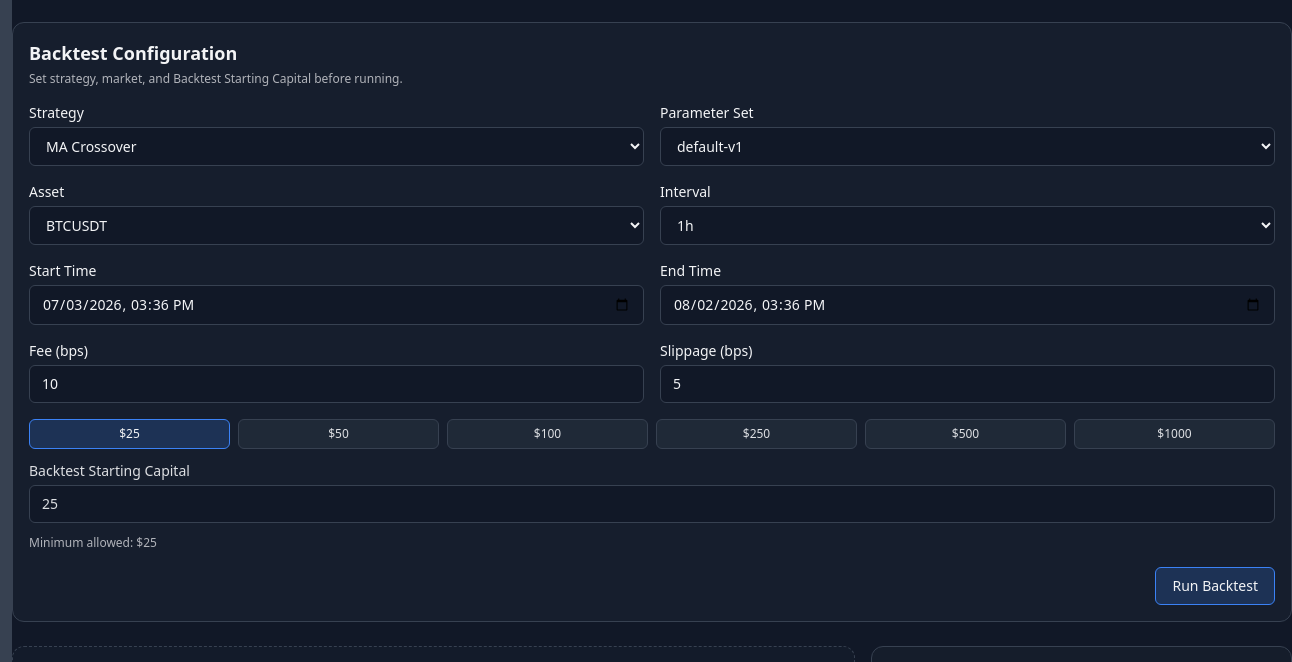
Test: BacktestsPage › shows running state after a successful run request
The width and height of the screenshot is (1292, 662).
Expected: the heading "Backtest Configuration" is shown, [29,41,237,65]
Click the button "Run Backtest".
click(1215, 586)  # box [1156,567,1275,605]
(page scrolled)
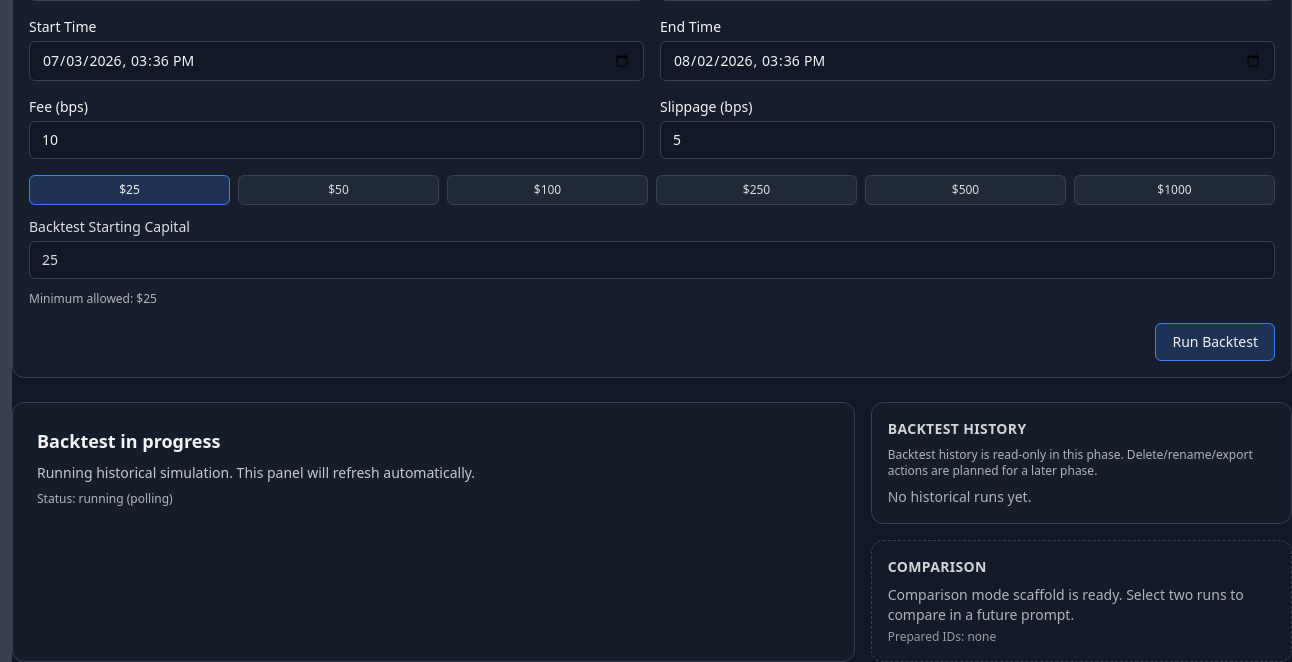
Expected: the heading "Backtest in progress" is shown, [37,429,220,453]
